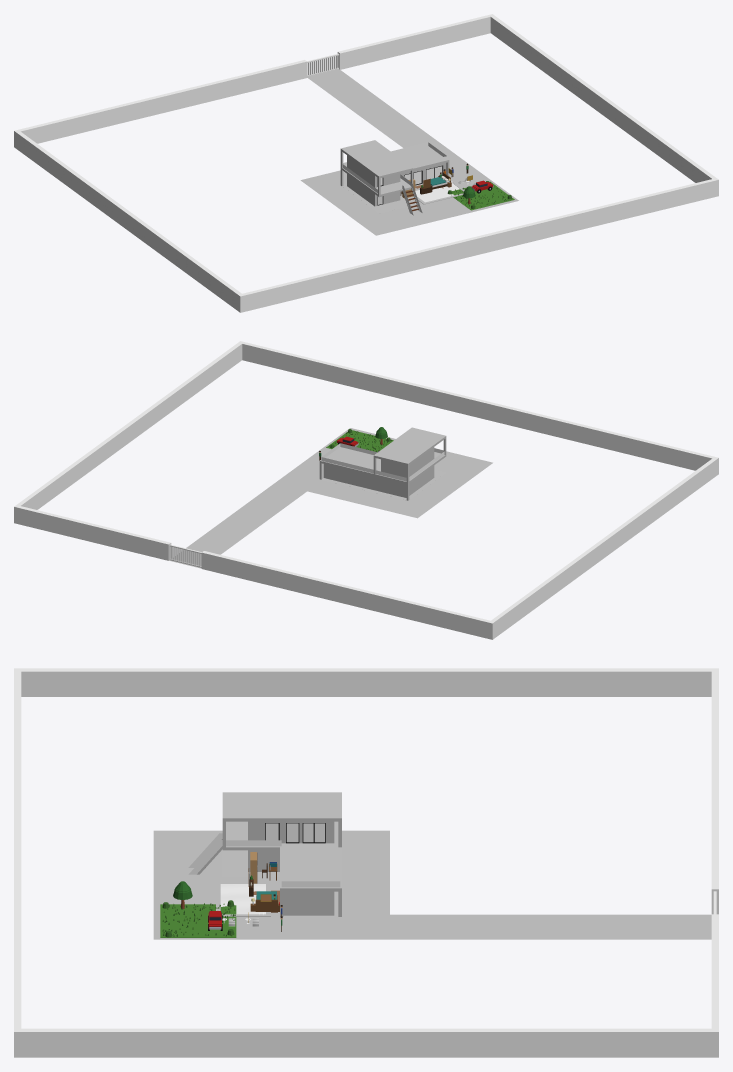
The model's file is modern-house.obj.
The picture shows the model from 3 angles, top to bottom: view 1: azimuth 30°, elevation 25°; view 2: azimuth 150°, elevation 25°; view 3: azimuth 270°, elevation 25°; orthographic projection. The views are drawn at different scales.
Parts seen in each view (by area): view 1: Cube.100, Cube.95, Cube.98, Cube.99, Cube.97, Cube.96, Plane.6, Cube.8, Plane.8, Plane.9, Plane.1, Plane.7 (+5 smaller); view 2: Cube.95, Cube.100, Cube.98, Cube.99, Cube.97, Cube.96, Cube.8, Plane.1, Plane.6, Plane.3, Plane.7, Plane.8 (+5 smaller); view 3: Cube.99, Cube.98, Cube.8, Plane.3, Plane.7, Plane.9, Cube.1, Plane.8, Plane.5, Plane.6, Lawn, Plane.1 (+10 smaller).
Part boxes in pixels (left/top/right/bottom): Cube.100: left=425, top=179, right=718, bottom=267; Cube.95: left=14, top=60, right=307, bottom=148; Cube.98: left=16, top=131, right=242, bottom=310; Cube.99: left=490, top=15, right=717, bottom=182; Cube.97: left=238, top=224, right=530, bottom=312; Cube.96: left=337, top=14, right=494, bottom=69; Plane.6: left=338, top=202, right=428, bottom=235; Cube.8: left=340, top=140, right=413, bottom=178; Plane.8: left=339, top=91, right=406, bottom=126; Plane.9: left=307, top=69, right=375, bottom=102; Plane.1: left=300, top=170, right=362, bottom=207; Plane.7: left=373, top=118, right=443, bottom=148; Cube.95: left=201, top=551, right=494, bottom=639; Cube.100: left=238, top=341, right=532, bottom=430; Cube.98: left=491, top=458, right=717, bottom=637; Cube.99: left=17, top=342, right=242, bottom=509; Cube.97: left=426, top=387, right=718, bottom=475; Cube.96: left=14, top=505, right=171, bottom=560; Cube.8: left=373, top=427, right=446, bottom=465; Plane.1: left=364, top=484, right=455, bottom=518; Plane.6: left=431, top=452, right=492, bottom=490; Plane.3: left=274, top=455, right=343, bottom=496; Plane.7: left=237, top=483, right=306, bottom=518; Plane.8: left=201, top=509, right=270, bottom=545; Cube.99: left=21, top=1028, right=712, bottom=1057; Cube.98: left=17, top=668, right=712, bottom=696; Cube.8: left=222, top=792, right=341, bottom=821; Plane.3: left=272, top=909, right=389, bottom=939; Plane.7: left=388, top=914, right=506, bottom=939; Plane.9: left=600, top=914, right=711, bottom=939; Cube.1: left=280, top=826, right=341, bottom=891; Plane.8: left=501, top=914, right=619, bottom=939; Plane.5: left=153, top=859, right=271, bottom=899; Plane.6: left=153, top=830, right=222, bottom=871; Lawn: left=160, top=904, right=236, bottom=937; Plane.1: left=342, top=830, right=389, bottom=871.
Bounding box in the file's own units: 6097 × 499 × 4996.
